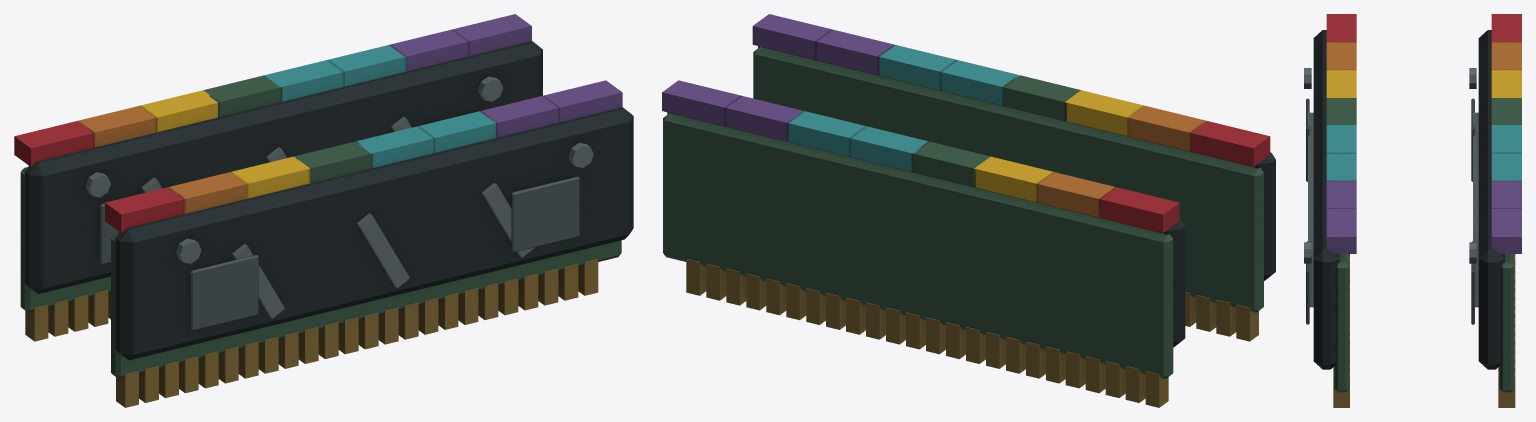
The model's file is ram_pair.glb.
3 renders of one model, left to right at view 1: azimuth 30°, elevation 25°; view 2: azimuth 150°, elevation 25°; view 3: azimuth 270°, elevation 25°, orthographic. The views are drawn at different scales.
Parts seen in each view (by area): view 1: ram_pair_static_0; view 2: ram_pair_static_0; view 3: ram_pair_static_0.
Part boxes in pixels (bbox=[...]): ram_pair_static_0: bbox=[14, 14, 633, 407]; ram_pair_static_0: bbox=[662, 14, 1275, 407]; ram_pair_static_0: bbox=[1304, 14, 1521, 407].
Size of the model in its own units: 0.144 by 0.053 by 0.058.
1 material, 1 textured.
